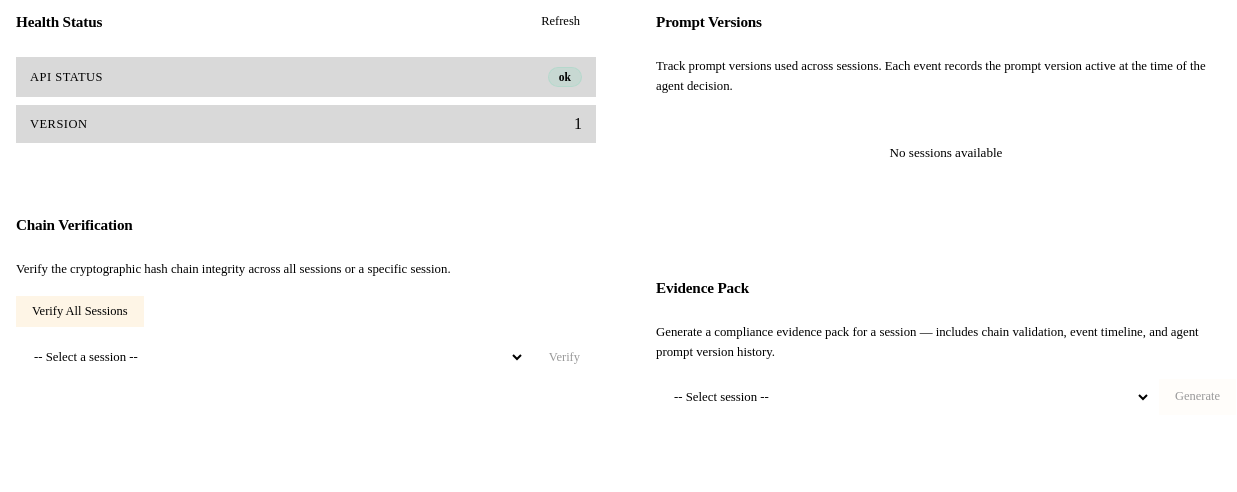
Test case: ComplianceView › shows verify error when verifyChain fails
Click the button "Verify All Sessions": (80, 312) [16, 296, 144, 327]
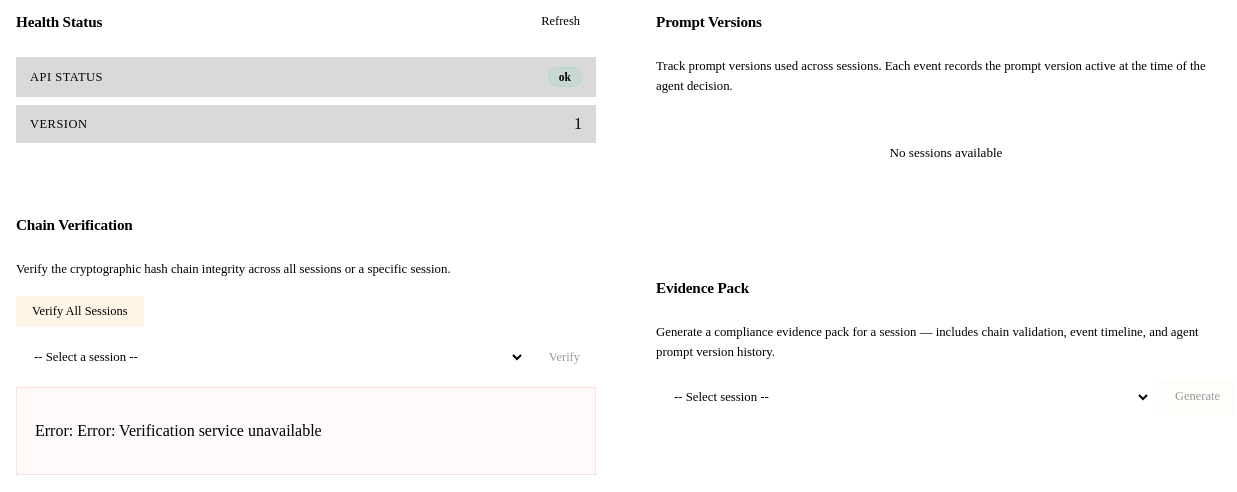
Check: the text "Error: Error: Verification service unavailable" is shown, box [35, 422, 322, 439]
